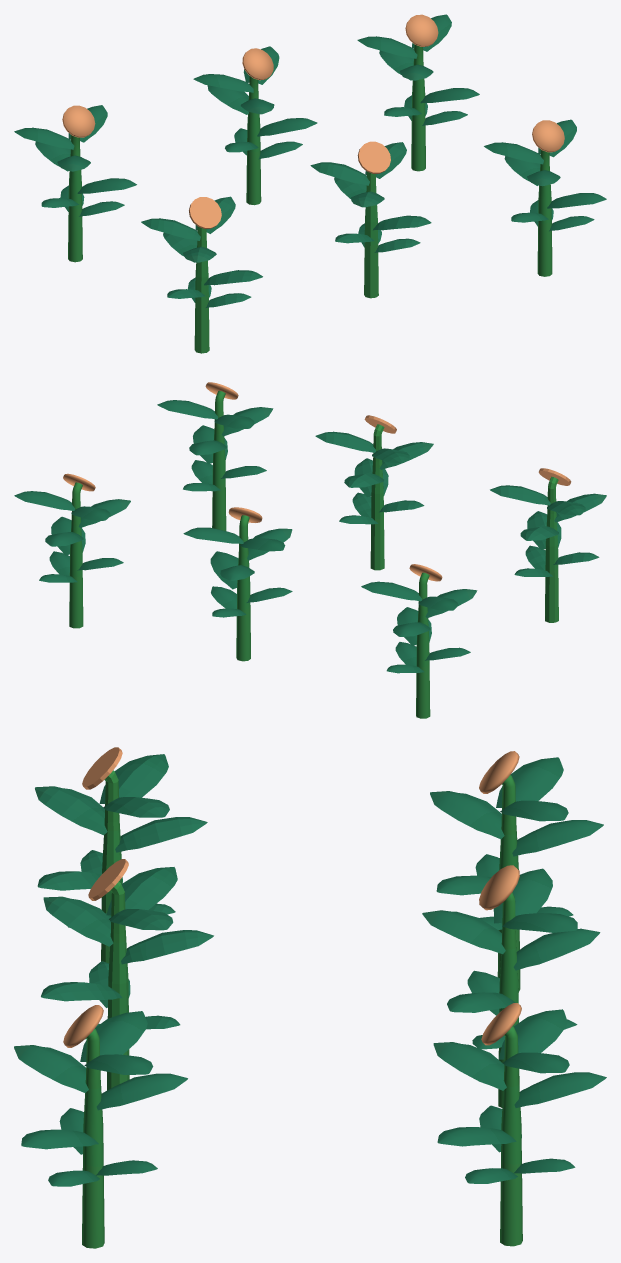
Rendered from Normale Plantjes.fbx.
3 renders of one model, top to bottom at view 1: azimuth 30°, elevation 25°; view 2: azimuth 150°, elevation 25°; view 3: azimuth 270°, elevation 25°, orthographic. The views are drawn at different scales.
Parts seen in each view (by area): view 1: Plane.031; view 2: Plane.031; view 3: Plane.031.
Boxes of the visible parts, x1,y1,x2,y2 form: Plane.031: (14,14,606,353); Plane.031: (14,382,606,718); Plane.031: (14,747,606,1248).
Size of the model in its own units: 1.88 by 0.6837 by 1.42.
